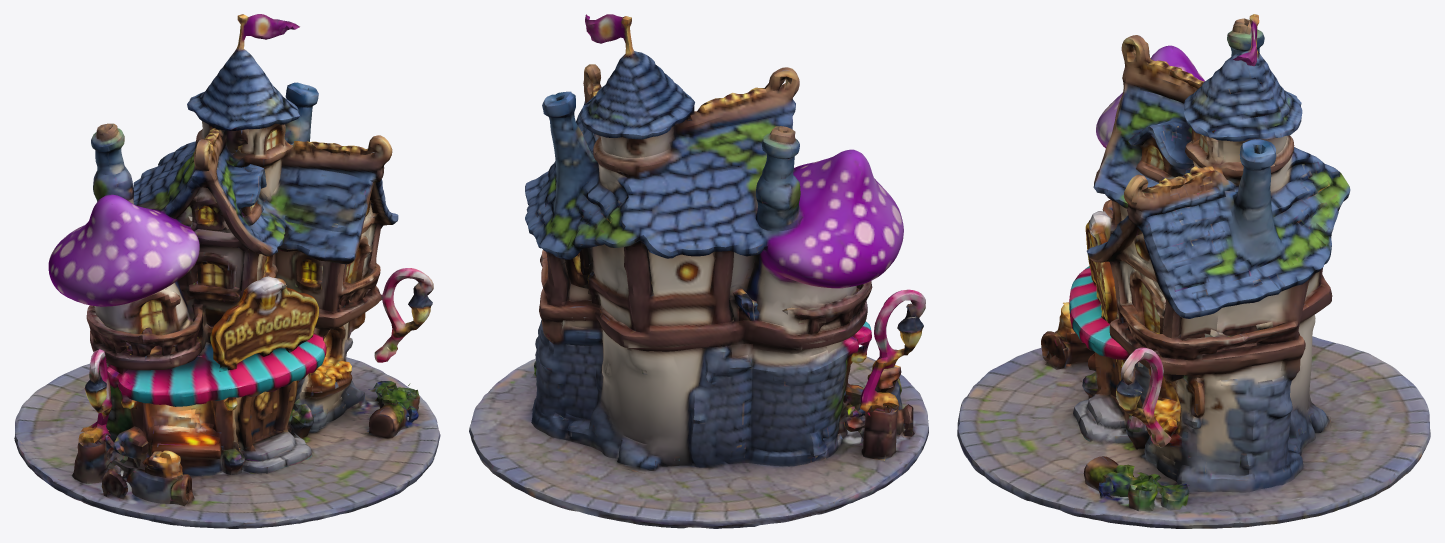
File: bb_gogo_bar.glb
3 views of the same model, side by side, from view 1: azimuth 30°, elevation 25°; view 2: azimuth 150°, elevation 25°; view 3: azimuth 270°, elevation 25° (orthographic). The views are drawn at different scales.
Visible parts, largest first — view 1: output; view 2: output; view 3: output.
Part boxes in pixels (left/top/right/bottom): output: left=14, top=14, right=440, bottom=528; output: left=469, top=14, right=928, bottom=528; output: left=957, top=14, right=1430, bottom=528.
Size of the model in its own units: 1.94 by 2.01 by 1.96.
Materials: 1 (1 with a texture image).
